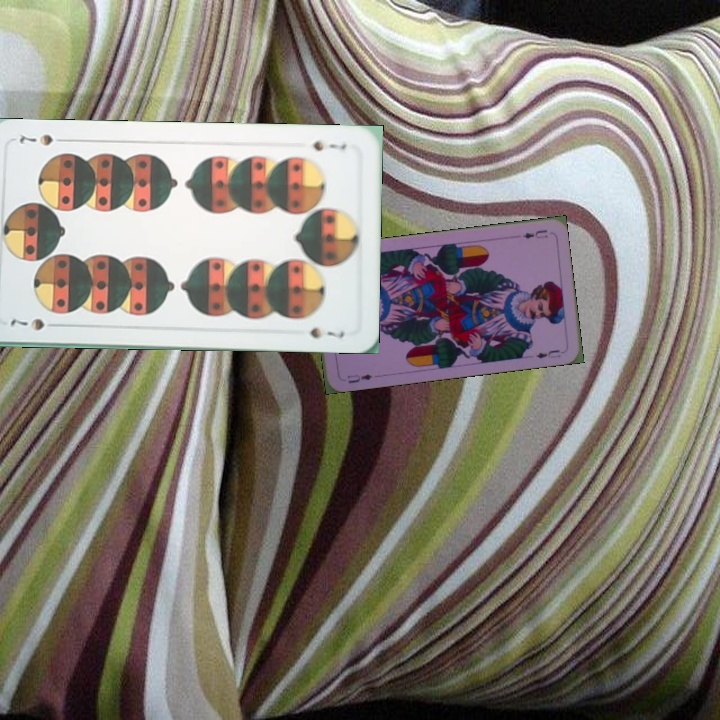EU: (343, 370, 375, 386), (519, 226, 550, 241)
S7: (7, 314, 63, 333), (309, 137, 349, 153)
